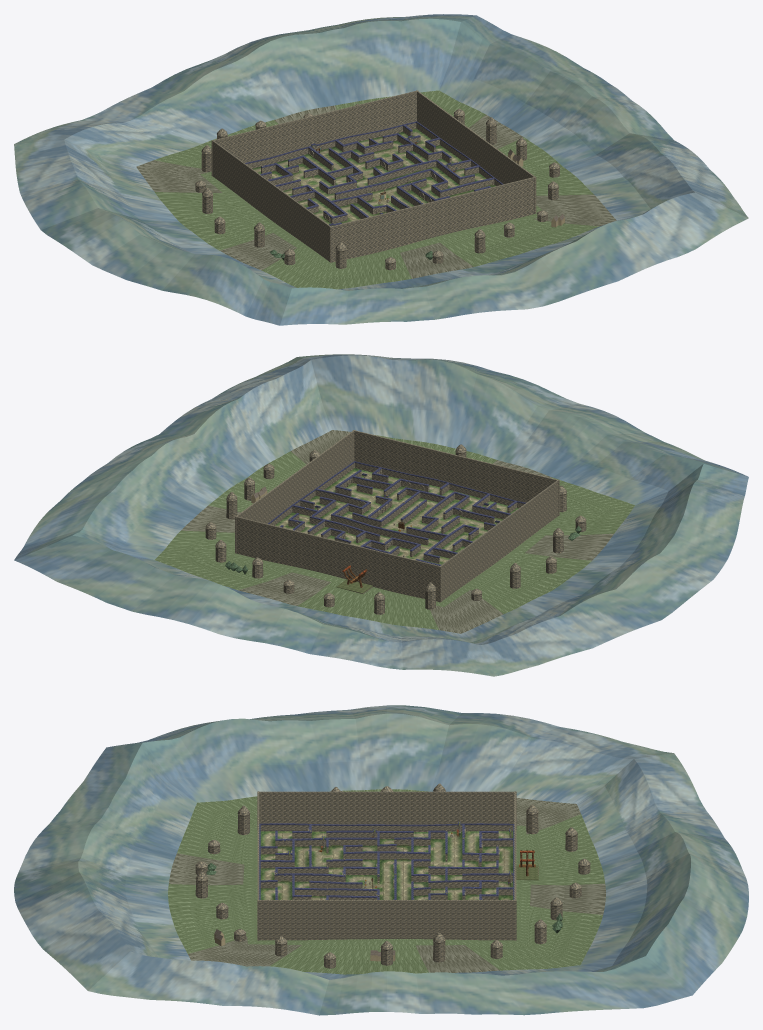
Rendered from MercySlip.fbx.
The picture shows the model from 3 angles, top to bottom: view 1: azimuth 30°, elevation 25°; view 2: azimuth 150°, elevation 25°; view 3: azimuth 270°, elevation 25°; orthographic projection. The views are drawn at different scales.
Visible parts, largest first — view 1: Surroundings, C_Solids, Rim, Terrain, Horizon, Set; view 2: Surroundings, C_Solids, Rim, Terrain, Horizon, Set; view 3: Surroundings, C_Solids, Rim, Terrain, Horizon, Set.
Boxes of the visible parts, left/top/right/bottom form: Surroundings: left=14, top=14, right=748, bottom=325; C_Solids: left=211, top=90, right=536, bottom=262; Rim: left=245, top=121, right=503, bottom=225; Terrain: left=252, top=128, right=495, bottom=224; Horizon: left=195, top=104, right=560, bottom=270; Set: left=261, top=135, right=493, bottom=226; Surroundings: left=14, top=354, right=748, bottom=676; C_Solids: left=235, top=430, right=559, bottom=602; Rim: left=268, top=461, right=525, bottom=565; Terrain: left=275, top=468, right=518, bottom=564; Horizon: left=205, top=444, right=586, bottom=614; Set: left=291, top=470, right=500, bottom=587; Surroundings: left=14, top=705, right=748, bottom=1015; C_Solids: left=257, top=791, right=516, bottom=940; Rim: left=259, top=823, right=514, bottom=899; Terrain: left=260, top=831, right=513, bottom=899; Horizon: left=195, top=783, right=590, bottom=968; Set: left=274, top=821, right=535, bottom=899.
Size of the model in its own units: 34182 by 3555 by 34583.
